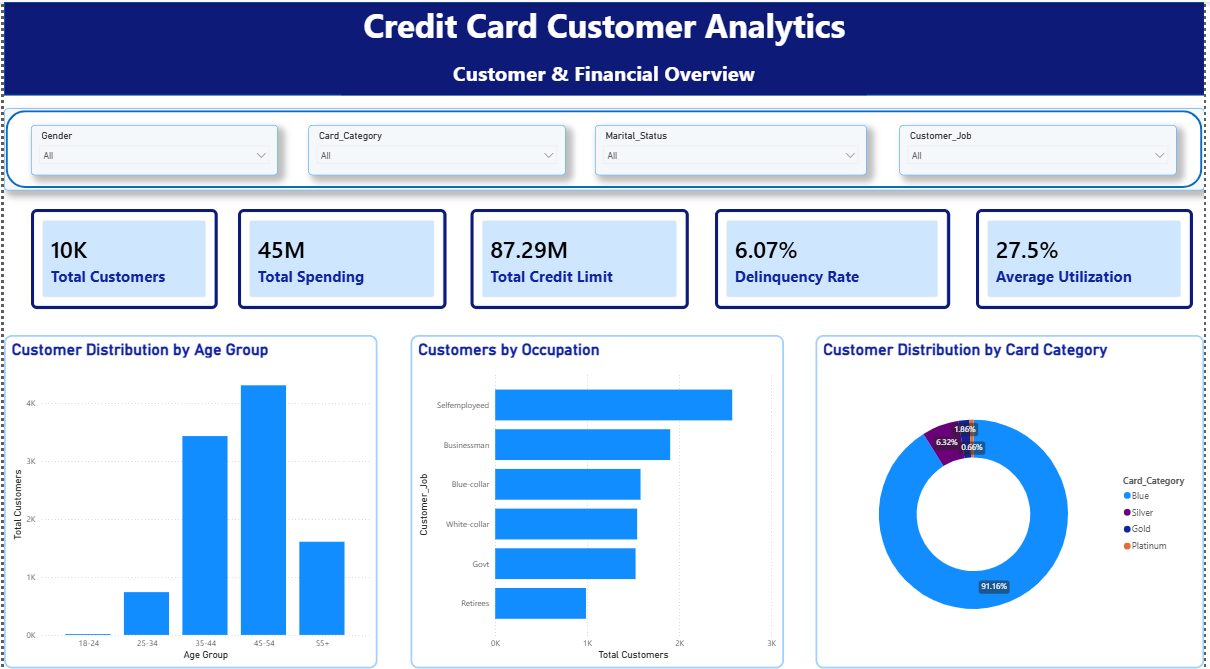

Layout of this report page (visuals, bound fields, positions):
{"tool":"powerbi","page":{"name":"Customer & Financial Overview","canvas":[1800,1000],"ordinal":0},"visuals":[{"type":"cardVisual","title":"Total Customers","fields":{"Data":["customer.Total Customers"]},"box":[40,310,280,150],"z":0},{"type":"cardVisual","fields":{"Data":["credit_card.Total Spending"]},"box":[350,310,312.5,150],"z":1000},{"type":"cardVisual","fields":{"Data":["credit_card.Total Credit Limit"]},"box":[700,310,327.5,150],"z":2000},{"type":"cardVisual","fields":{"Data":["credit_card.Average Utilization"]},"box":[1457.5,310,325,150],"z":3000},{"type":"cardVisual","fields":{"Data":["credit_card.Delinquency Rate"]},"box":[1065,310,352.5,150],"z":4000},{"type":"clusteredColumnChart","title":"Customer Distribution by Age Group","fields":{"Category":["customer.Age Group"],"Y":["customer.Total Customers"]},"box":[0,500,560,500],"z":5000},{"type":"barChart","title":"Customers by Occupation","fields":{"Category":["customer.Customer_Job"],"Y":["customer.Total Customers"]},"box":[610,500,560,500],"z":6000},{"type":"donutChart","title":"Customer Distribution by Card Category","fields":{"Category":["credit_card.Card_Category"],"Y":["customer.Total Customers"]},"box":[1217.5,500,582.5,500],"z":7000},{"type":"shape","box":[0,0,1800,140],"z":8000},{"type":"shape","box":[505,70,787.5,70],"z":9000},{"type":"shape","box":[0,160,1800,122.5],"z":10000},{"type":"slicer","fields":{"Values":["credit_card.Card_Category"]},"box":[457.5,185,385,75],"z":11000},{"type":"slicer","title":"Gender","fields":{"Values":["customer.Gender"]},"box":[40,185,370,75],"z":12000},{"type":"slicer","fields":{"Values":["customer.Marital_Status"]},"box":[885,185,407.5,75],"z":13000},{"type":"slicer","fields":{"Values":["customer.Customer_Job"]},"box":[1342.5,185,415,75],"z":14000}]}

Visuals, with their boxes in screenshot pixels (x1, y1, x2, y2), scaled from the page's 1800x1000 canvas onto the 1210x669 screenshot:
"Total Customers" cardVisual: <region>27, 207, 215, 308</region>
cardVisual - credit_card.Total Spending: <region>235, 207, 445, 308</region>
cardVisual - credit_card.Total Credit Limit: <region>471, 207, 691, 308</region>
cardVisual - credit_card.Average Utilization: <region>980, 207, 1198, 308</region>
cardVisual - credit_card.Delinquency Rate: <region>716, 207, 953, 308</region>
"Customer Distribution by Age Group" clusteredColumnChart: <region>0, 334, 376, 668</region>
"Customers by Occupation" barChart: <region>410, 334, 787, 668</region>
"Customer Distribution by Card Category" donutChart: <region>818, 334, 1209, 668</region>
shape: <region>0, 0, 1209, 94</region>
shape: <region>339, 47, 869, 94</region>
shape: <region>0, 107, 1209, 189</region>
slicer - credit_card.Card_Category: <region>308, 124, 566, 174</region>
"Gender" slicer: <region>27, 124, 276, 174</region>
slicer - customer.Marital_Status: <region>595, 124, 869, 174</region>
slicer - customer.Customer_Job: <region>902, 124, 1181, 174</region>
